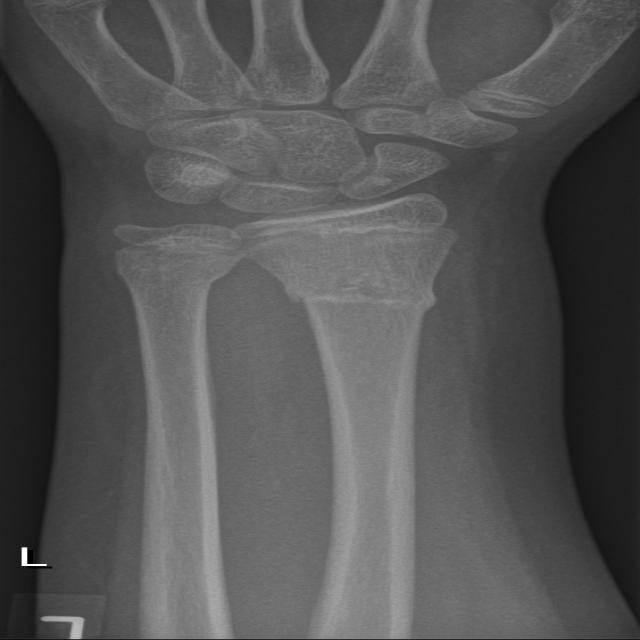radius fracture: (263, 263, 484, 362)
